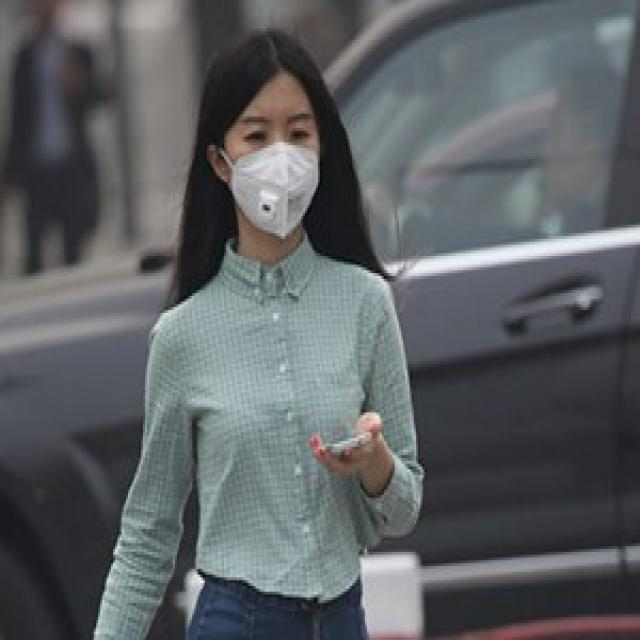mask: (226, 74, 320, 233)
